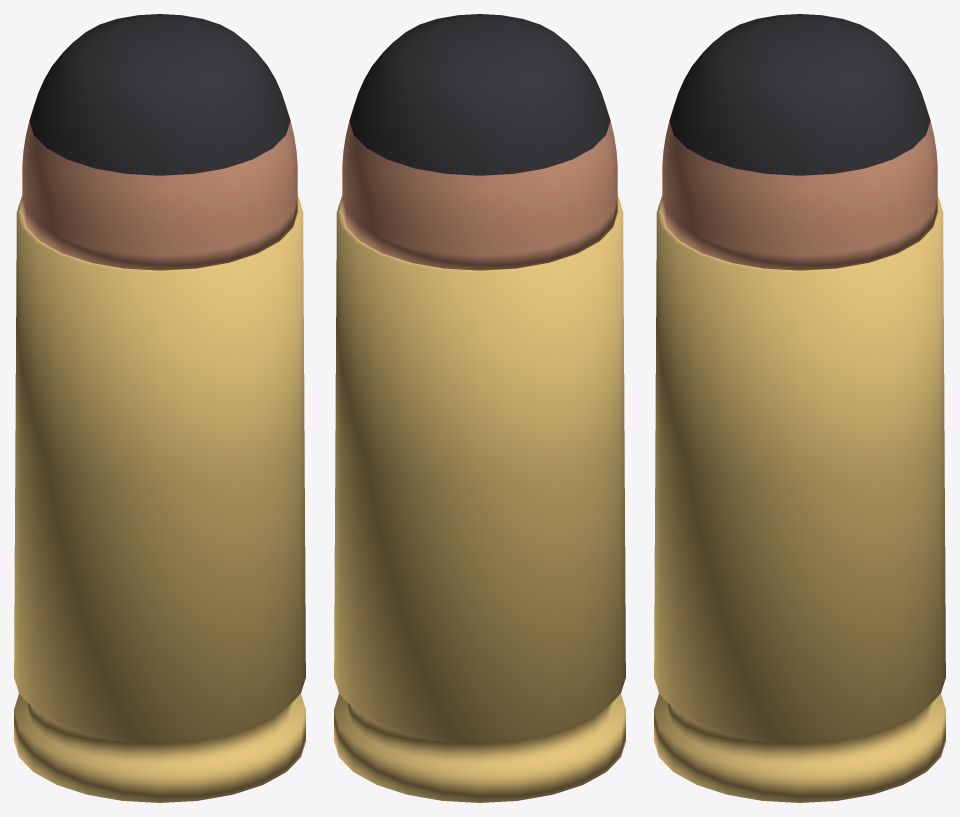
3 renders of one model, left to right at view 1: azimuth 30°, elevation 25°; view 2: azimuth 150°, elevation 25°; view 3: azimuth 270°, elevation 25°, orthographic.
Parts seen in each view (by area): view 1: vaina, punta, bala_cuerpo; view 2: vaina, punta, bala_cuerpo; view 3: vaina, punta, bala_cuerpo.
Part boxes in pixels (box(x1,y1,x2,y2)): vaina: box(14, 196, 305, 802); punta: box(29, 14, 290, 175); bala_cuerpo: box(22, 121, 297, 270); vaina: box(334, 196, 625, 802); punta: box(349, 14, 610, 175); bala_cuerpo: box(342, 121, 617, 270); vaina: box(654, 196, 945, 802); punta: box(669, 14, 930, 175); bala_cuerpo: box(662, 121, 937, 270).
Bounding box in the file's own units: 0.0108 × 0.0288 × 0.0108.
